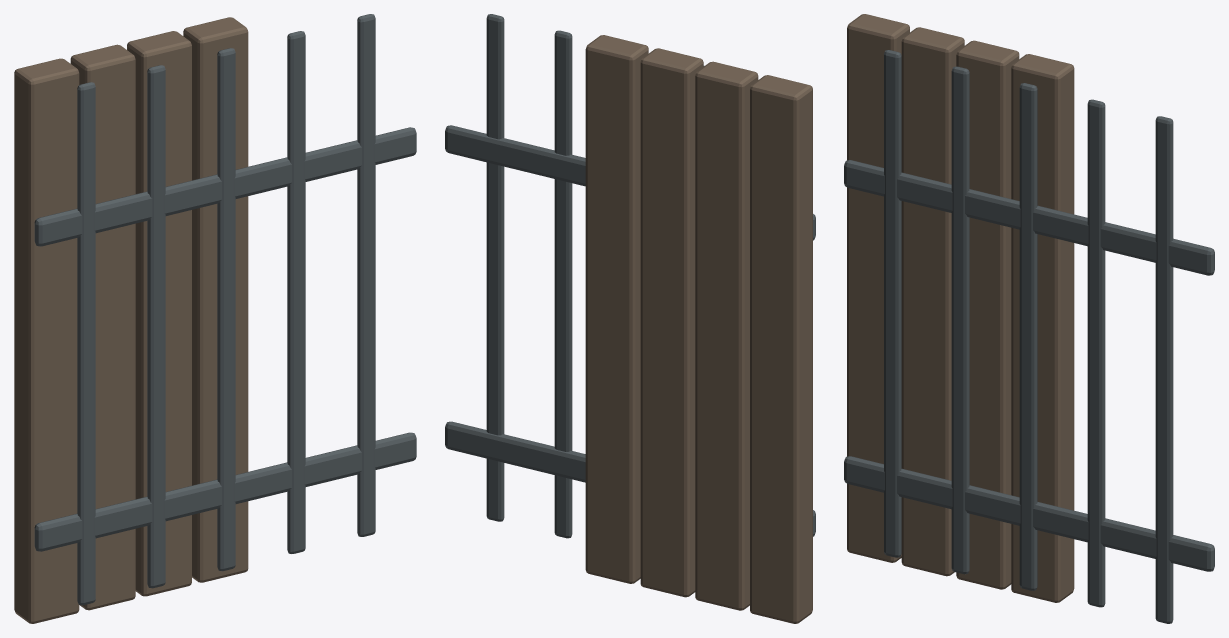
File: iron_door_broken.glb
The picture shows the model from 3 angles, left to right: view 1: azimuth 30°, elevation 25°; view 2: azimuth 150°, elevation 25°; view 3: azimuth 330°, elevation 25°; orthographic projection. The views are drawn at different scales.
Parts seen in each view (by area): view 1: Body.030; view 2: Body.030; view 3: Body.030.
Boxes of the visible parts, x1=… form: Body.030: x1=14, y1=14, x2=416, y2=623; Body.030: x1=445, y1=14, x2=815, y2=623; Body.030: x1=844, y1=14, x2=1214, y2=623.
Bounding box in the file's own units: 0.985 × 1.34 × 0.106.
